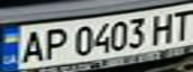0: (69, 22, 93, 56), (109, 18, 130, 52)
3: (127, 15, 154, 48)
4: (93, 19, 115, 54)
A: (15, 27, 48, 64)
H: (148, 10, 178, 44)
P: (39, 25, 72, 61)
T: (166, 6, 193, 40)
